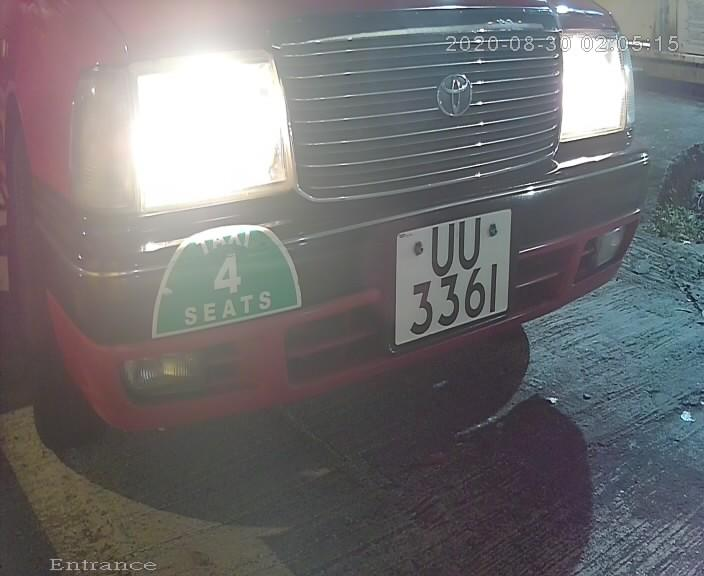License Plate: (387, 193, 522, 353)
